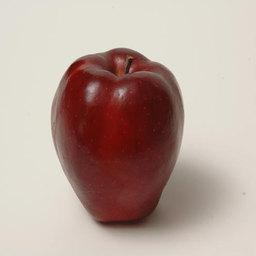apple: (48, 48, 185, 227)
